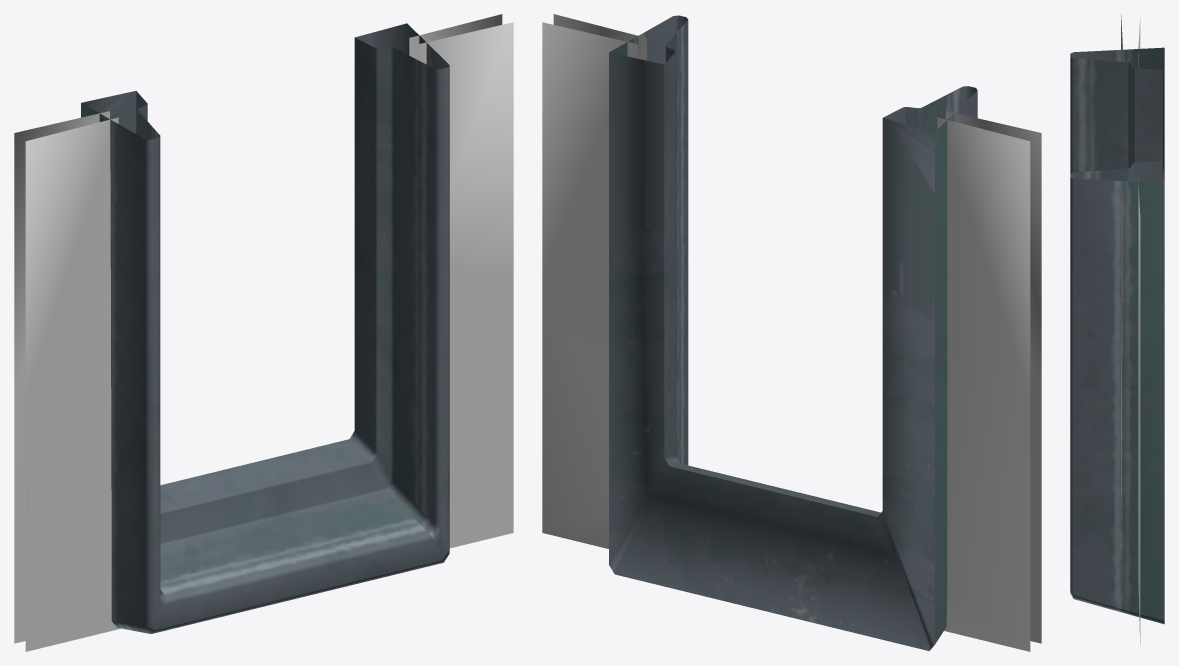
File: Wall_LargeWindowBottom.fbx
3 views of the same model, side by side, from view 1: azimuth 30°, elevation 25°; view 2: azimuth 150°, elevation 25°; view 3: azimuth 270°, elevation 25° (orthographic). The views are drawn at different scales.
Visible parts, largest first — view 1: Wall_LargeWindowBottom; view 2: Wall_LargeWindowBottom; view 3: Wall_LargeWindowBottom.
Part boxes in pixels (box(x1,y1,x2,y2)): Wall_LargeWindowBottom: box(14, 14, 513, 651); Wall_LargeWindowBottom: box(542, 14, 1041, 651); Wall_LargeWindowBottom: box(1070, 14, 1164, 644).
Bounding box in the file's own units: 500 × 510 × 98.3.
